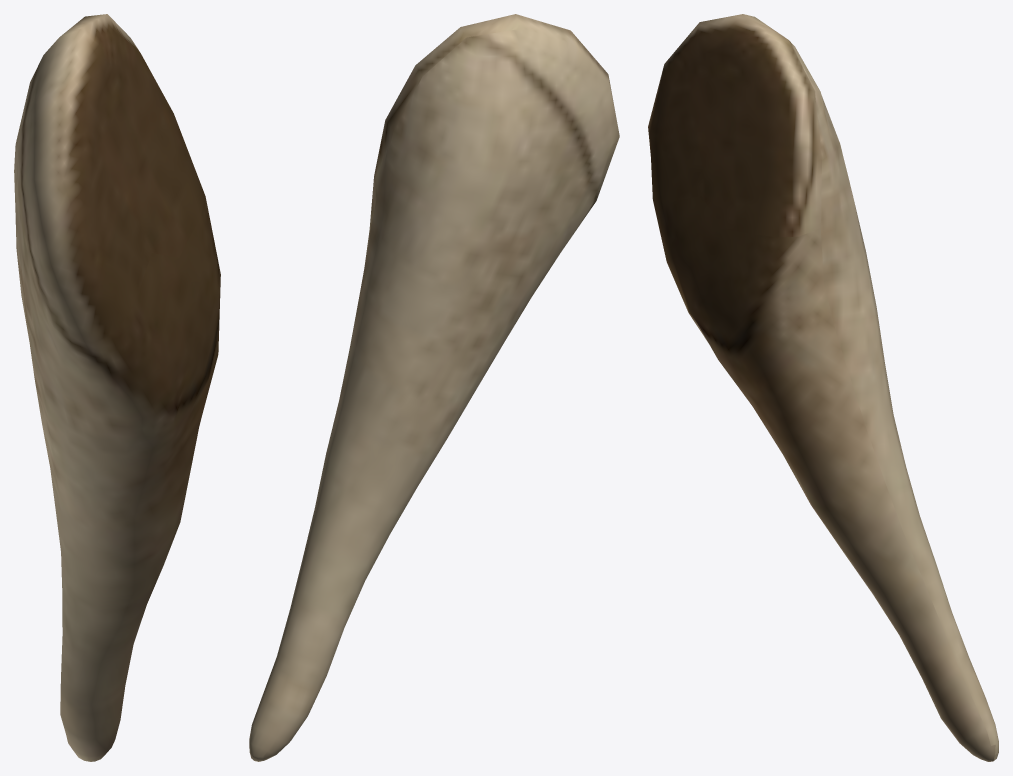
File: Fibula.glb
3 renders of one model, left to right at view 1: azimuth 30°, elevation 25°; view 2: azimuth 150°, elevation 25°; view 3: azimuth 270°, elevation 25°, orthographic. The views are drawn at different scales.
Visible parts, largest first — view 1: R_Bck_Fibula; view 2: R_Bck_Fibula; view 3: R_Bck_Fibula.
Part boxes in pixels (<box>): R_Bck_Fibula: <box>14,14,220,761</box>; R_Bck_Fibula: <box>249,14,619,761</box>; R_Bck_Fibula: <box>648,14,998,761</box>.
Size of the model in its own units: 0.02 by 0.0637 by 0.0297.
1 material, 1 textured.
